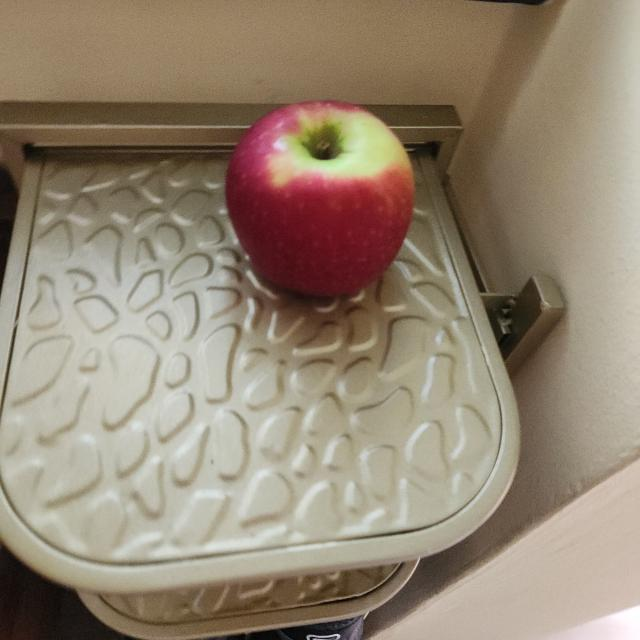apple: (214, 90, 424, 306)
